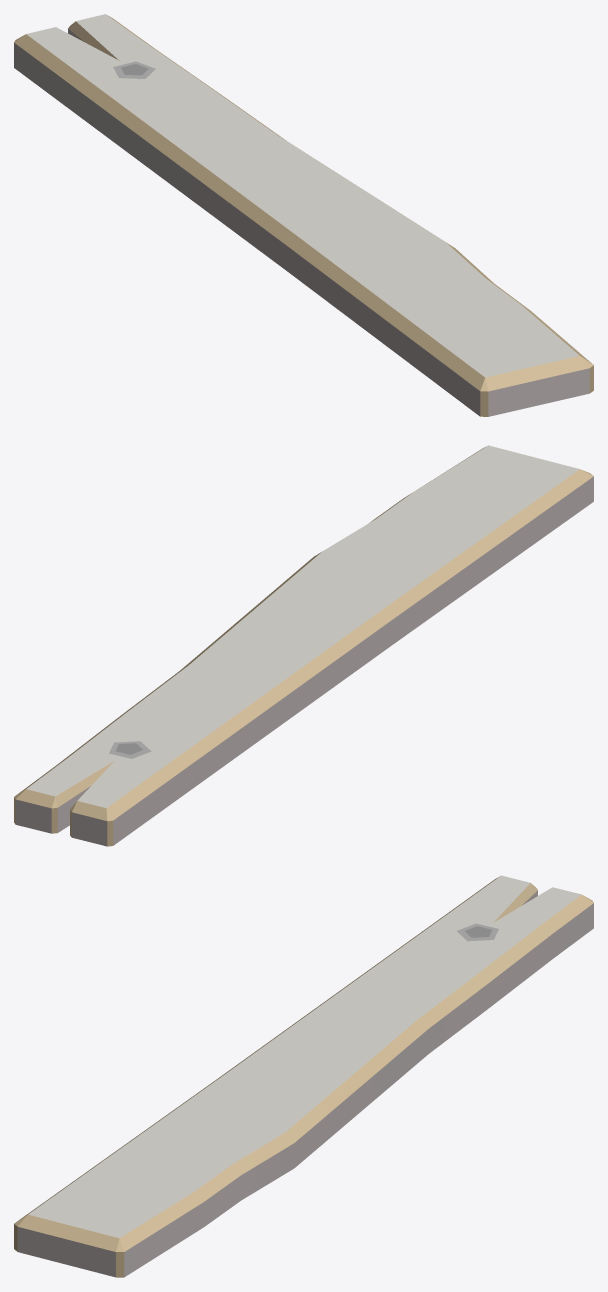
File: WoodBoardA_0.glb
3 views of the same model, one above another, from view 1: azimuth 30°, elevation 25°; view 2: azimuth 150°, elevation 25°; view 3: azimuth 330°, elevation 25° (orthographic).
Parts seen in each view (by area): view 1: WoodBoardA; view 2: WoodBoardA; view 3: WoodBoardA.
Boxes of the visible parts, x1,y1,x2,y2 form: WoodBoardA: (14,14,593,416); WoodBoardA: (14,445,593,846); WoodBoardA: (14,875,593,1277).
Size of the model in its own units: 0.5752 by 0.1497 by 3.74.
